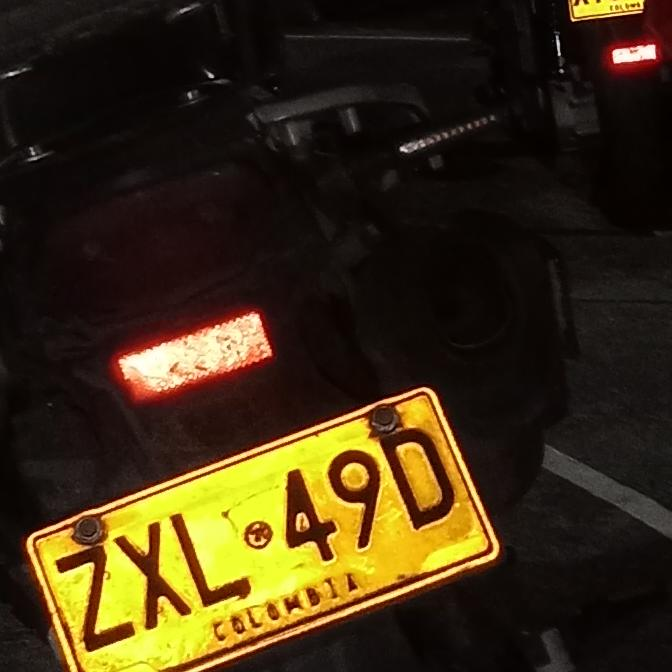plates: (26, 387, 495, 672)
